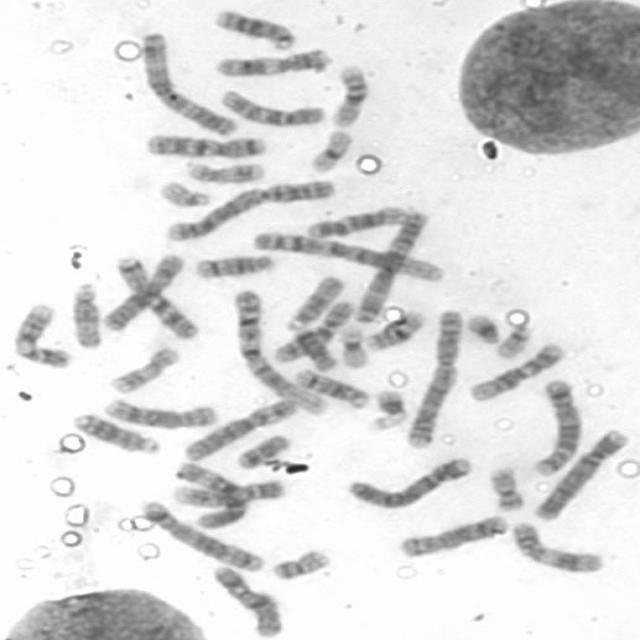A1: (229, 286, 329, 416), (249, 228, 449, 283)
A2: (161, 176, 338, 243), (402, 307, 464, 448)
A3: (134, 29, 239, 138), (350, 208, 430, 324)
B4: (530, 425, 634, 523), (343, 454, 474, 511)
B5: (135, 499, 265, 572), (526, 375, 584, 478)
C10: (268, 295, 356, 365), (215, 87, 327, 128)
C11: (506, 516, 608, 576), (212, 46, 333, 78)
C12: (464, 338, 566, 403), (302, 202, 411, 240)
C6: (178, 397, 298, 461), (171, 458, 250, 532)
C7: (109, 252, 199, 341), (141, 130, 269, 160)
C8: (394, 512, 510, 560), (99, 394, 220, 430)
C9: (10, 300, 74, 370), (170, 475, 288, 508)
D13: (70, 411, 164, 456), (209, 6, 296, 52)
D14: (291, 366, 373, 410), (190, 250, 278, 281)
D15: (281, 273, 348, 333), (67, 276, 104, 351)
E16: (326, 61, 372, 129), (363, 306, 428, 352)
E17: (105, 343, 182, 395), (182, 162, 266, 184)
E18: (285, 322, 339, 372), (230, 430, 294, 469)
F19: (306, 128, 354, 174), (336, 322, 370, 371)
F20: (267, 545, 333, 582), (484, 461, 526, 513)
G21: (364, 386, 412, 432), (462, 309, 502, 345)
G22: (156, 177, 217, 208), (492, 319, 532, 360)
X: (100, 250, 188, 335), (208, 562, 285, 638)
